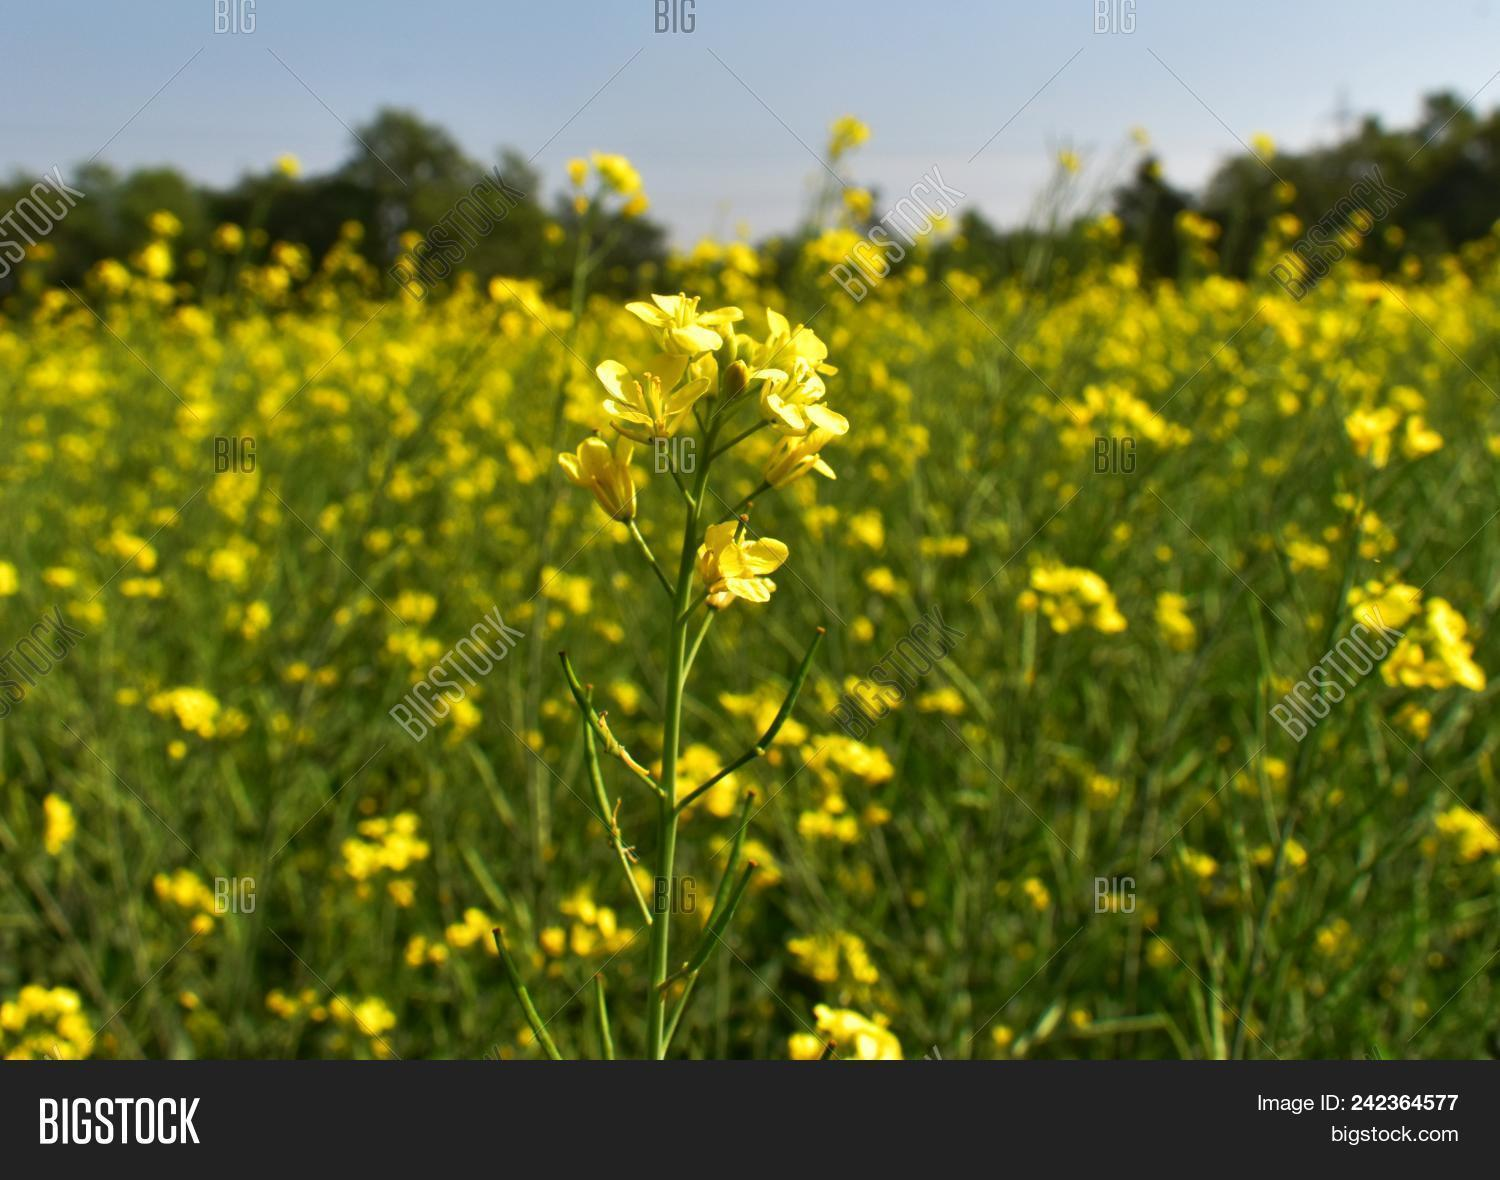mustard: (6, 228, 1500, 1080), (862, 230, 1500, 888), (18, 207, 508, 1050), (519, 272, 920, 1022)
